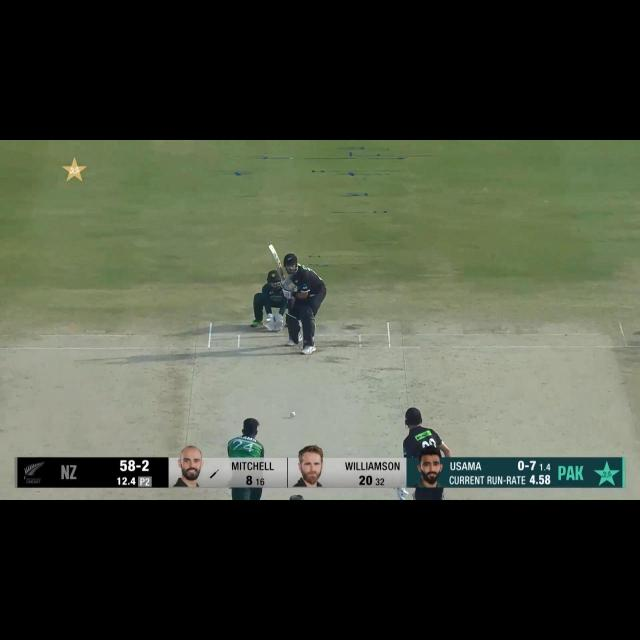bat: (267, 243, 285, 279)
toe: (268, 243, 274, 252)
